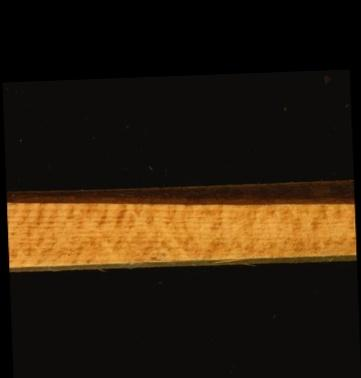wave: (6, 183, 353, 212)
